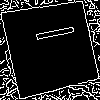I: (25, 23, 75, 46)
